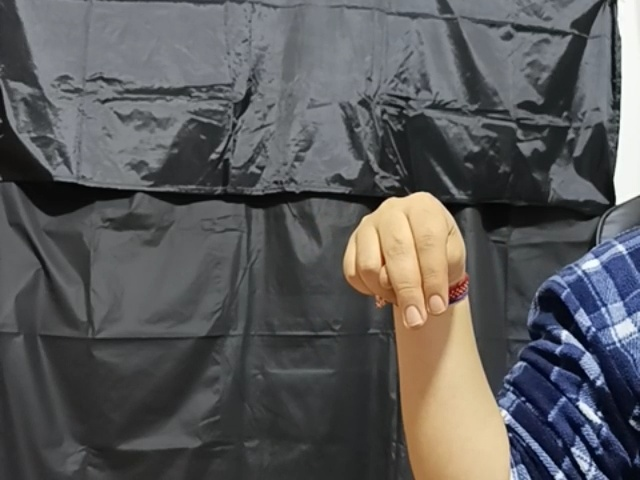N: (340, 185, 483, 335)
